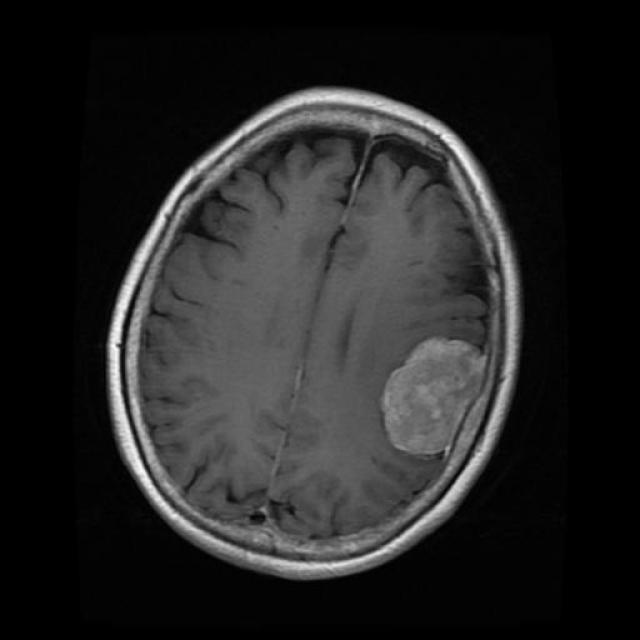Brain-Tumor: (377, 324, 497, 469)
